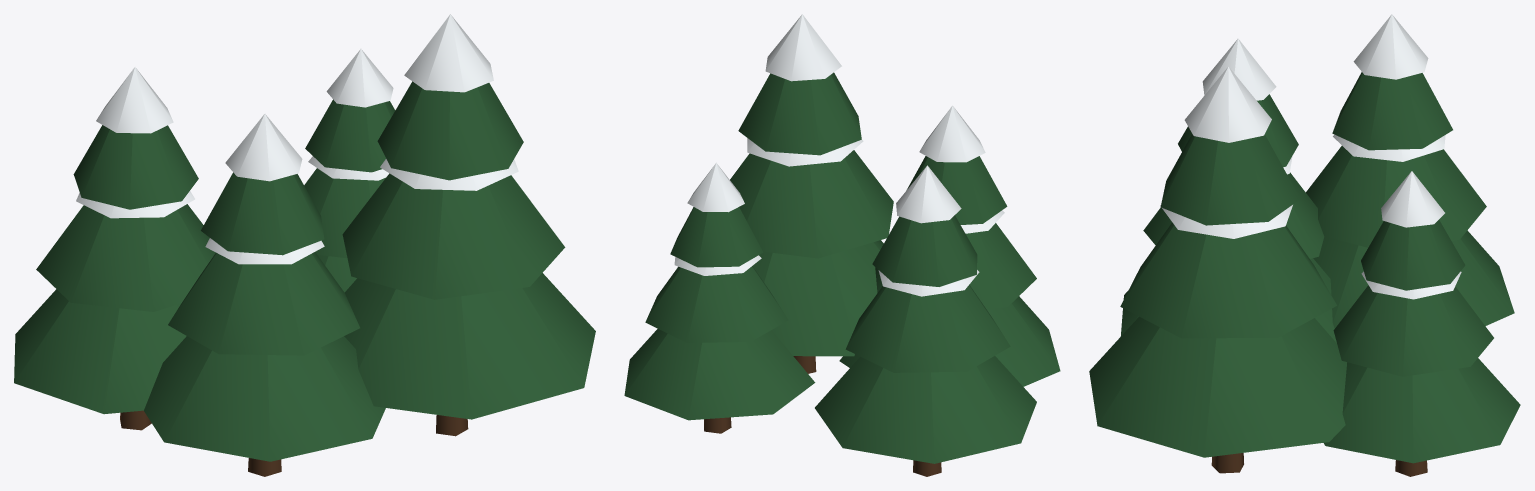
The model's file is sawyer_snowy_stand_c.glb.
3 renders of one model, left to right at view 1: azimuth 30°, elevation 25°; view 2: azimuth 150°, elevation 25°; view 3: azimuth 270°, elevation 25°, orthographic. The views are drawn at different scales.
Parts seen in each view (by area): view 1: snowpine_1_tier0, snowpine_2_tier0, snowpine_1_tier1, snowpine_3_tier0, snowpine_2_tier1, snowpine_3_tier1, snowpine_1_tier2, snowpine_3_tier2, snowpine_2_tier2, snowpine_0_tier2, snowpine_1_snow2, snowpine_0_tier1 (+8 smaller); view 2: snowpine_3_tier0, snowpine_1_tier1, snowpine_0_tier0, snowpine_3_tier1, snowpine_1_tier0, snowpine_0_tier1, snowpine_1_tier2, snowpine_3_tier2, snowpine_0_tier2, snowpine_2_tier0, snowpine_2_tier1, snowpine_2_tier2 (+7 smaller); view 3: snowpine_1_tier0, snowpine_1_tier1, snowpine_0_tier0, snowpine_0_tier1, snowpine_3_tier1, snowpine_1_tier2, snowpine_3_tier2, snowpine_3_tier0, snowpine_0_tier2, snowpine_1_snow2, snowpine_3_snow2, snowpine_2_tier1 (+8 smaller).
Boxes of the visible parts, x1=… form: snowpine_1_tier0: x1=344, y1=273, x2=595, y2=419; snowpine_2_tier0: x1=144, y1=336, x2=385, y2=461; snowpine_1_tier1: x1=342, y1=173, x2=565, y2=299; snowpine_3_tier0: x1=14, y1=289, x2=186, y2=414; snowpine_2_tier1: x1=168, y1=252, x2=359, y2=355; snowpine_3_tier1: x1=36, y1=204, x2=215, y2=311; snowpine_1_tier2: x1=377, y1=81, x2=523, y2=180; snowpine_3_tier2: x1=73, y1=125, x2=198, y2=209; snowpine_2_tier2: x1=201, y1=172, x2=324, y2=255; snowpine_0_tier2: x1=305, y1=99, x2=395, y2=172; snowpine_1_snow2: x1=404, y1=14, x2=493, y2=92; snowpine_0_tier1: x1=304, y1=168, x2=385, y2=258; snowpine_3_tier0: x1=815, y1=356, x2=1036, y2=463; snowpine_1_tier1: x1=730, y1=150, x2=893, y2=258; snowpine_0_tier0: x1=624, y1=329, x2=815, y2=420; snowpine_3_tier1: x1=845, y1=285, x2=1010, y2=372; snowpine_1_tier0: x1=752, y1=240, x2=883, y2=356; snowpine_0_tier1: x1=645, y1=266, x2=788, y2=342; snowpine_1_tier2: x1=738, y1=72, x2=861, y2=155; snowpine_3_tier2: x1=872, y1=215, x2=977, y2=286; snowpine_0_tier2: x1=670, y1=207, x2=763, y2=267; snowpine_2_tier0: x1=839, y1=296, x2=1060, y2=386; snowpine_2_tier1: x1=875, y1=223, x2=1036, y2=309; snowpine_2_tier2: x1=906, y1=156, x2=1007, y2=224; snowpine_1_tier0: x1=1089, y1=316, x2=1346, y2=457; snowpine_1_tier1: x1=1120, y1=222, x2=1336, y2=338; snowpine_0_tier0: x1=1324, y1=358, x2=1520, y2=463; snowpine_0_tier1: x1=1333, y1=285, x2=1493, y2=376; snowpine_3_tier1: x1=1306, y1=146, x2=1486, y2=247; snowpine_1_tier2: x1=1160, y1=134, x2=1300, y2=225; snowpine_3_tier2: x1=1332, y1=72, x2=1452, y2=150; snowpine_3_tier0: x1=1313, y1=230, x2=1514, y2=328; snowpine_0_tier2: x1=1361, y1=220, x2=1465, y2=290; snowpine_1_snow2: x1=1184, y1=66, x2=1271, y2=142; snowpine_3_snow2: x1=1353, y1=14, x2=1428, y2=79; snowpine_2_tier1: x1=1143, y1=172, x2=1324, y2=258.
Size of the model in its own units: 3.74 by 3.09 by 3.02.
